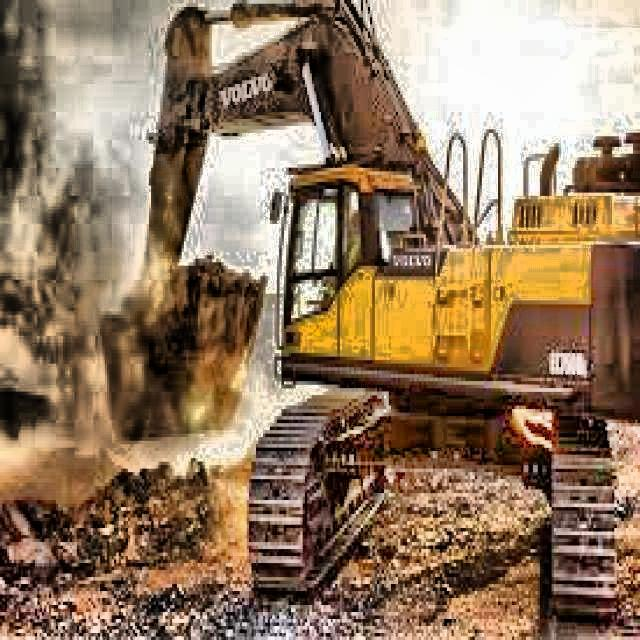bull_dozer/loader/grader: (97, 0, 640, 623)
person: (326, 210, 362, 289)
